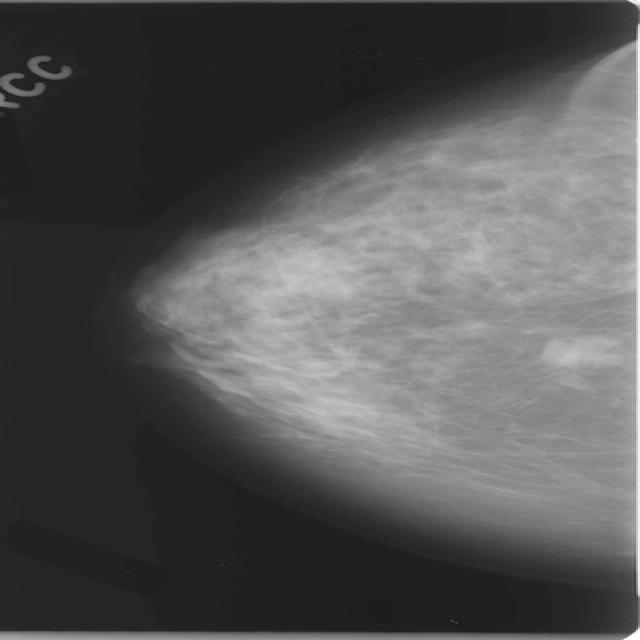tumour: (539, 332, 620, 368)
